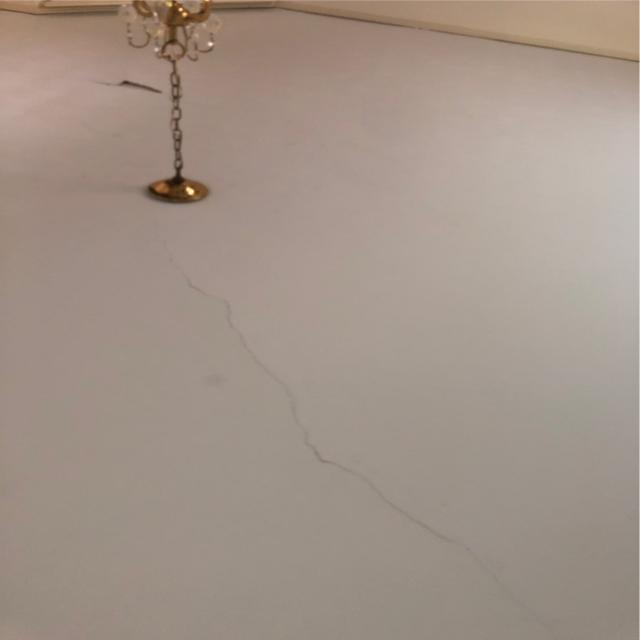leak: (157, 221, 570, 640)
